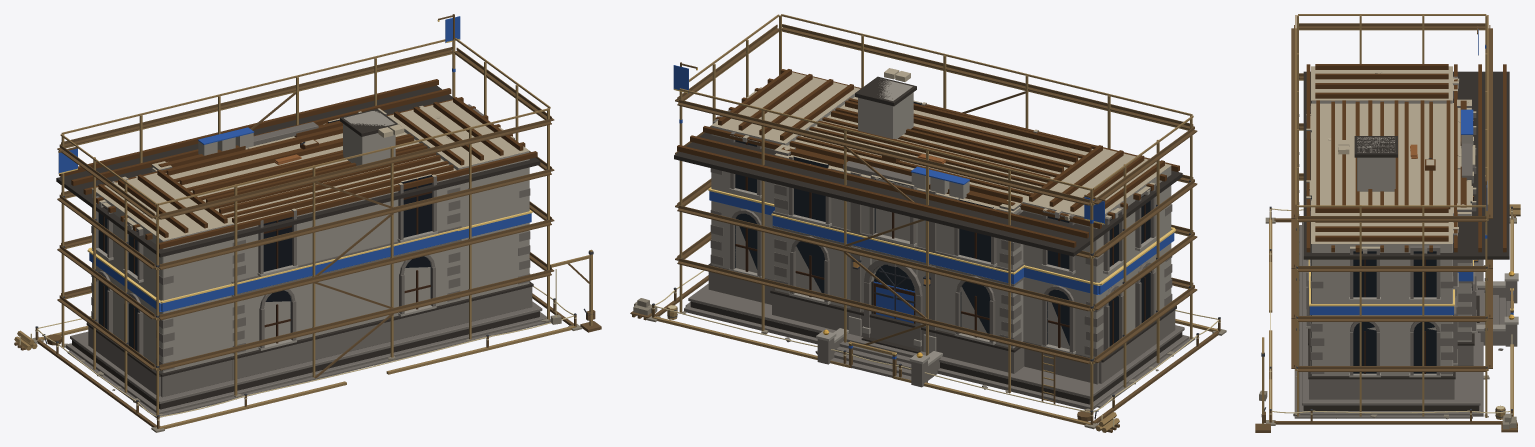
The model's file is 城镇大厅_升级1.glb.
3 renders of one model, left to right at view 1: azimuth 30°, elevation 25°; view 2: azimuth 150°, elevation 25°; view 3: azimuth 270°, elevation 25°, orthographic. The views are drawn at different scales.
Visible parts, largest first — view 1: TH-主体, TH-team, TH-自发光, TH-team_trim; view 2: TH-主体, TH-自发光, TH-team, TH-team_trim; view 3: TH-主体, TH-自发光, TH-team, TH-team_trim.
Part boxes in pixels (<box>): TH-主体: <box>14,14,601,432</box>; TH-team: <box>58,16,531,312</box>; TH-自发光: <box>98,119,431,351</box>; TH-team_trim: <box>59,20,532,303</box>; TH-主体: <box>630,14,1226,432</box>; TH-自发光: <box>735,102,1150,346</box>; TH-team: <box>673,65,1174,359</box>; TH-team_trim: <box>674,68,1175,354</box>; TH-主体: <box>1255,14,1520,432</box>; TH-自发光: <box>1310,130,1477,373</box>; TH-team: <box>1309,29,1513,314</box>; TH-team_trim: <box>1308,55,1513,310</box>.
Size of the model in its own units: 20.96 by 10.43 by 10.57.
4 materials, 2 textured.
